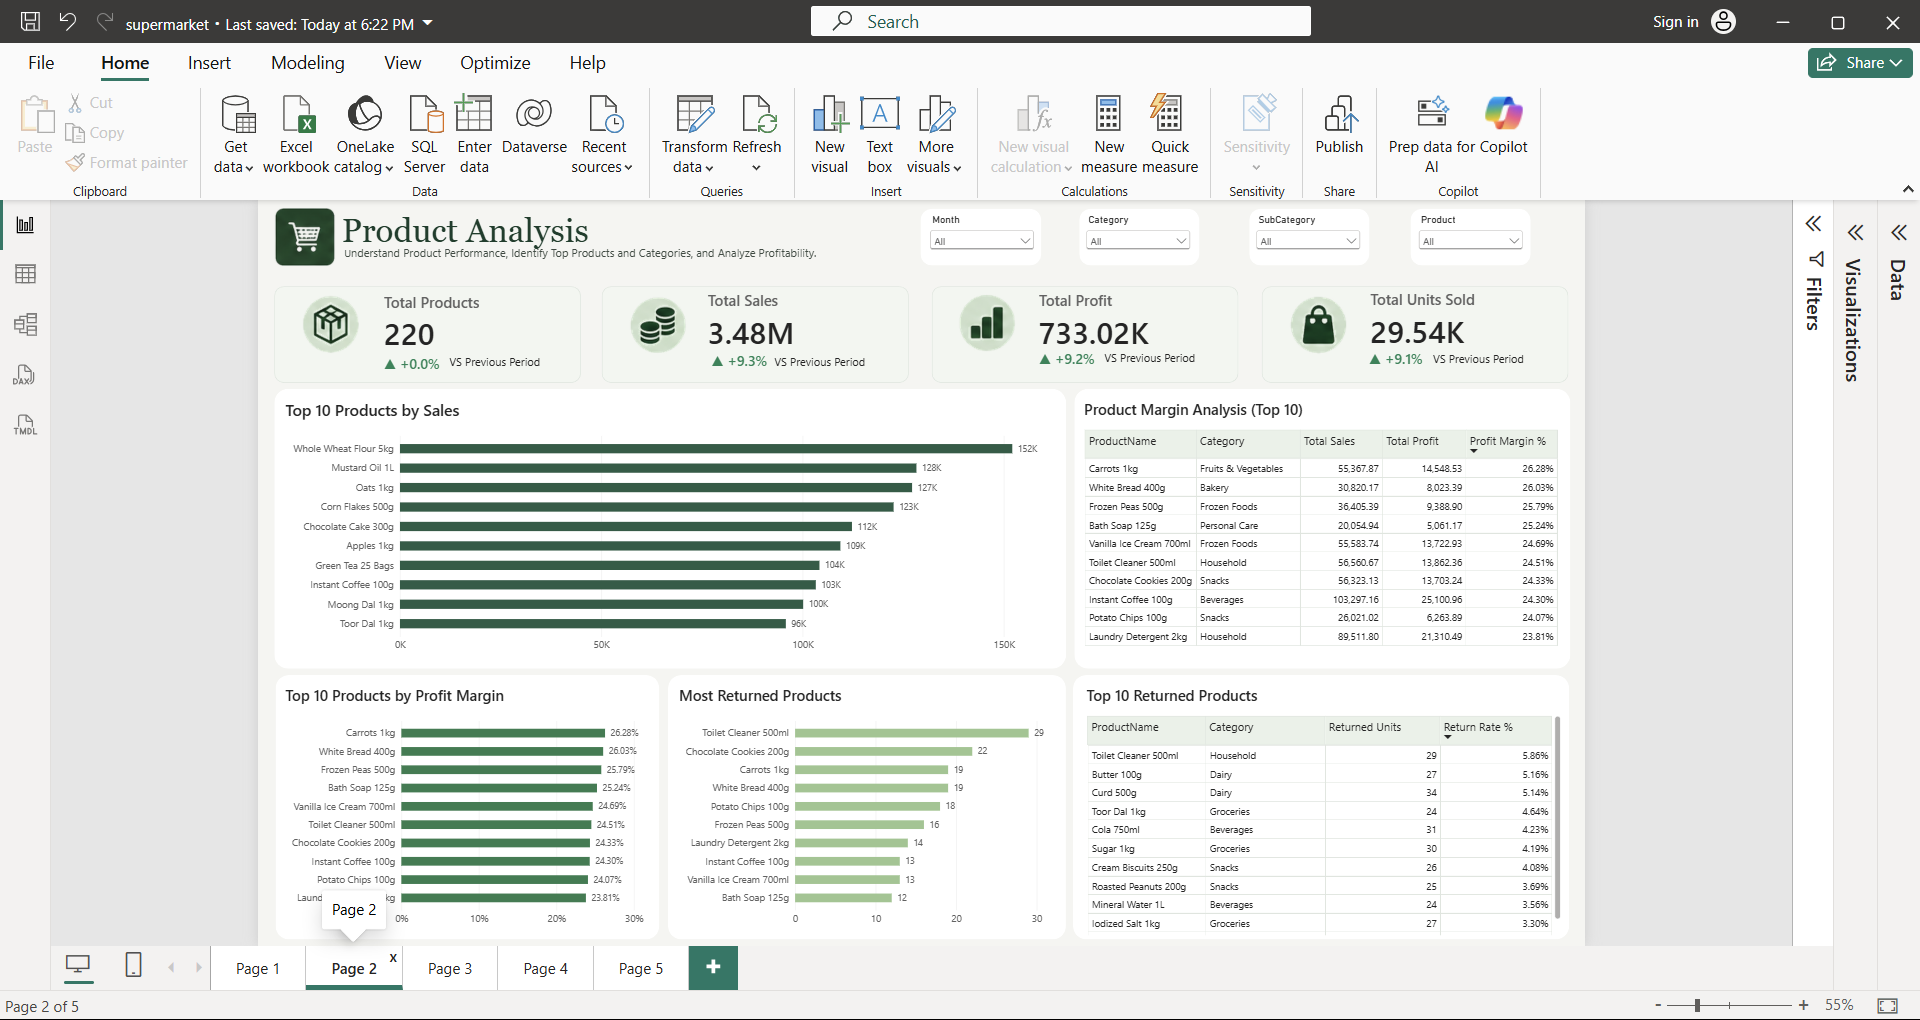

Layout of this report page (visuals, bound fields, positions):
{"tool":"powerbi","page":{"name":"Page 2","canvas":[1920,1080],"ordinal":1},"visuals":[{"type":"image","box":[0,0,135.8,107],"z":0},{"type":"textbox","box":[122,16.5,514.6,88.5],"z":1000},{"type":"textbox","box":[124,65,747.2,41.2],"z":2000},{"type":"shape","box":[959.2,12.3,175,82.3],"z":3000},{"type":"shape","box":[1189.7,12.3,174,82.3],"z":4000},{"type":"shape","box":[1434.7,12.3,174,82.3],"z":5000},{"type":"shape","box":[1669.3,12.3,174,82.3],"z":6000},{"type":"slicer","fields":{"Values":["DateTable.Month"]},"box":[967.4,20.6,160.5,80.3],"z":7000},{"type":"slicer","fields":{"Values":["vw_products_clean.Category"]},"box":[1195,20,160,80],"z":8000},{"type":"slicer","fields":{"Values":["vw_products_clean.SubCategory"]},"box":[1440.8,20.6,160,80],"z":9000},{"type":"slicer","fields":{"Values":["vw_products_clean.ProductName"]},"box":[1675.5,20.6,160.5,80],"z":10000},{"type":"shape","box":[22.6,125.6,444,140],"z":11000},{"type":"shape","box":[498.1,125.6,444.6,140],"z":12000},{"type":"shape","box":[976,125.6,444,140],"z":13000},{"type":"shape","box":[1453.2,125.6,444,140],"z":14000},{"type":"image","box":[22.6,129,164.7,102.9],"z":15000},{"type":"cardVisual","fields":{"Data":["All_Measures.Total Products"]},"box":[166.7,121.4,212,113.2],"z":16000},{"type":"cardVisual","fields":{"Data":["All_Measures.Total Products Growth Label"]},"box":[166.7,158.5,127.6,152.3],"z":17000},{"type":"textbox","box":[276,223,193.5,32.9],"z":18000},{"type":"image","box":[498.1,129.7,164,102],"z":19000},{"type":"cardVisual","fields":{"Data":["All_Measures.Total Sales"]},"box":[636,120,212,113.2],"z":20000},{"type":"cardVisual","fields":{"Data":["All_Measures.Total Sales Growth Label"]},"box":[640,212,152.3,41.2],"z":21000},{"type":"textbox","box":[748,222.3,304.6,30.9],"z":22000},{"type":"image","box":[973,126,164,102],"z":23000},{"type":"cardVisual","fields":{"Data":["All_Measures.Total Profit"]},"box":[1114,119.4,212,113.2],"z":24000},{"type":"cardVisual","fields":{"Data":["All_Measures.Profit Growth Label"]},"box":[1115,207.9,152.3,41.2],"z":25000},{"type":"textbox","box":[1225,218,257.3,32.9],"z":26000},{"type":"image","box":[1453.2,129.7,164.7,102],"z":27000},{"type":"cardVisual","fields":{"Data":["All_Measures.Total Units Sold"]},"box":[1594,118,212,113.2],"z":28000},{"type":"cardVisual","fields":{"Data":["All_Measures.Units Growth Label"]},"box":[1593.1,207.9,152.3,41.2],"z":29000},{"type":"textbox","box":[1700.2,218.2,183.2,32.9],"z":30000},{"type":"shape","box":[22.6,273.8,1146.5,405.5],"z":31000},{"type":"barChart","title":"Top 10 Products by Sales","fields":{"Category":["vw_products_clean.ProductName"],"Y":["All_Measures.Total Sales"]},"box":[22.6,273.8,1146.5,401.4],"z":32000},{"type":"shape","box":[24.7,687.5,555.7,382.8],"z":33000},{"type":"barChart","title":" Top 10 Products by Profit Margin","fields":{"Category":["vw_products_clean.ProductName"],"Y":["All_Measures.Profit Margin %"]},"box":[22.6,687.5,557.8,382.8],"z":34000},{"type":"shape","box":[592.8,687.5,576.3,382.8],"z":35000},{"type":"barChart","title":"Most Returned Products","fields":{"Category":["vw_products_clean.ProductName"],"Y":["All_Measures.Returned Units"]},"box":[592.8,687.5,568.1,382.8],"z":36000},{"type":"shape","box":[1179.4,687.5,718.4,382.8],"z":37000},{"type":"shape","box":[1181.5,273.8,718.4,405.5],"z":38000},{"type":"tableEx","title":"Product Margin Analysis (Top 10)","fields":{"Values":["vw_products_clean.ProductName","vw_products_clean.Category","All_Measures.Total Sales","All_Measures.Total Profit","All_Measures.Profit Margin %"]},"box":[1179.4,273.8,718.4,413.7],"z":39000},{"type":"tableEx","title":"Top 10 Returned Products","fields":{"Values":["vw_products_clean.ProductName","vw_products_clean.Category","All_Measures.Returned Units","All_Measures.Return Rate %"]},"box":[1183.5,687.5,718.4,393.1],"z":40000}]}

Visuals, with their boxes on the page's 1920x1080 design canvas (x1, y1, x2, y2). These are canvas units, not pixel positions in the 1920x1020 screenshot, which may show the page scaled, cropped or inside an application window:
image: (0, 0, 136, 107)
textbox: (122, 16, 637, 105)
textbox: (124, 65, 871, 106)
shape: (959, 12, 1134, 95)
shape: (1190, 12, 1364, 95)
shape: (1435, 12, 1609, 95)
shape: (1669, 12, 1843, 95)
slicer - DateTable.Month: (967, 21, 1128, 101)
slicer - vw_products_clean.Category: (1195, 20, 1355, 100)
slicer - vw_products_clean.SubCategory: (1441, 21, 1601, 101)
slicer - vw_products_clean.ProductName: (1676, 21, 1836, 101)
shape: (23, 126, 467, 266)
shape: (498, 126, 943, 266)
shape: (976, 126, 1420, 266)
shape: (1453, 126, 1897, 266)
image: (23, 129, 187, 232)
cardVisual - All_Measures.Total Products: (167, 121, 379, 235)
cardVisual - All_Measures.Total Products Growth Label: (167, 158, 294, 311)
textbox: (276, 223, 470, 256)
image: (498, 130, 662, 232)
cardVisual - All_Measures.Total Sales: (636, 120, 848, 233)
cardVisual - All_Measures.Total Sales Growth Label: (640, 212, 792, 253)
textbox: (748, 222, 1053, 253)
image: (973, 126, 1137, 228)
cardVisual - All_Measures.Total Profit: (1114, 119, 1326, 233)
cardVisual - All_Measures.Profit Growth Label: (1115, 208, 1267, 249)
textbox: (1225, 218, 1482, 251)
image: (1453, 130, 1618, 232)
cardVisual - All_Measures.Total Units Sold: (1594, 118, 1806, 231)
cardVisual - All_Measures.Units Growth Label: (1593, 208, 1745, 249)
textbox: (1700, 218, 1883, 251)
shape: (23, 274, 1169, 679)
"Top 10 Products by Sales" barChart: (23, 274, 1169, 675)
shape: (25, 688, 580, 1070)
" Top 10 Products by Profit Margin" barChart: (23, 688, 580, 1070)
shape: (593, 688, 1169, 1070)
"Most Returned Products" barChart: (593, 688, 1161, 1070)
shape: (1179, 688, 1898, 1070)
shape: (1182, 274, 1900, 679)
"Product Margin Analysis (Top 10)" tableEx: (1179, 274, 1898, 688)
"Top 10 Returned Products" tableEx: (1184, 688, 1902, 1081)
